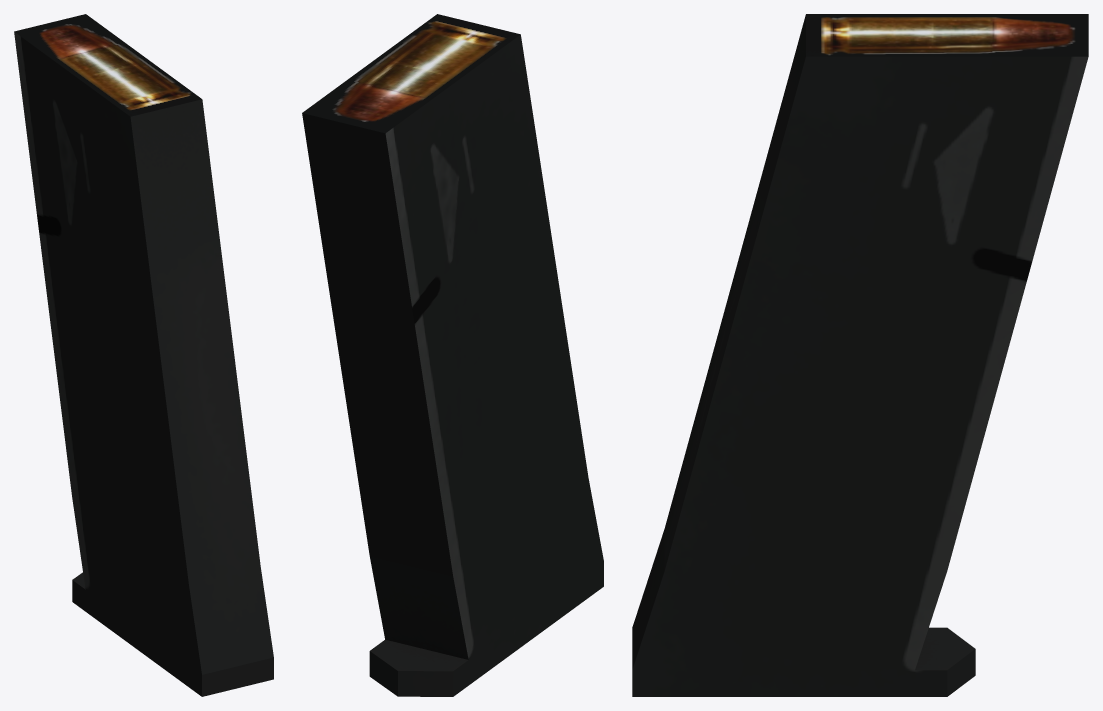
File: mag_straight_2.glb
3 renders of one model, left to right at view 1: azimuth 30°, elevation 25°; view 2: azimuth 150°, elevation 25°; view 3: azimuth 270°, elevation 25°, orthographic. The views are drawn at different scales.
Parts seen in each view (by area): view 1: M9 Pistol Mag; view 2: M9 Pistol Mag; view 3: M9 Pistol Mag.
Part boxes in pixels (x1,y1,x2,y2): M9 Pistol Mag: (14, 14, 273, 696); M9 Pistol Mag: (302, 14, 603, 696); M9 Pistol Mag: (632, 14, 1088, 696).
Size of the model in its own units: 0.0356 by 0.25 by 0.1614.
1 material, 1 textured.
